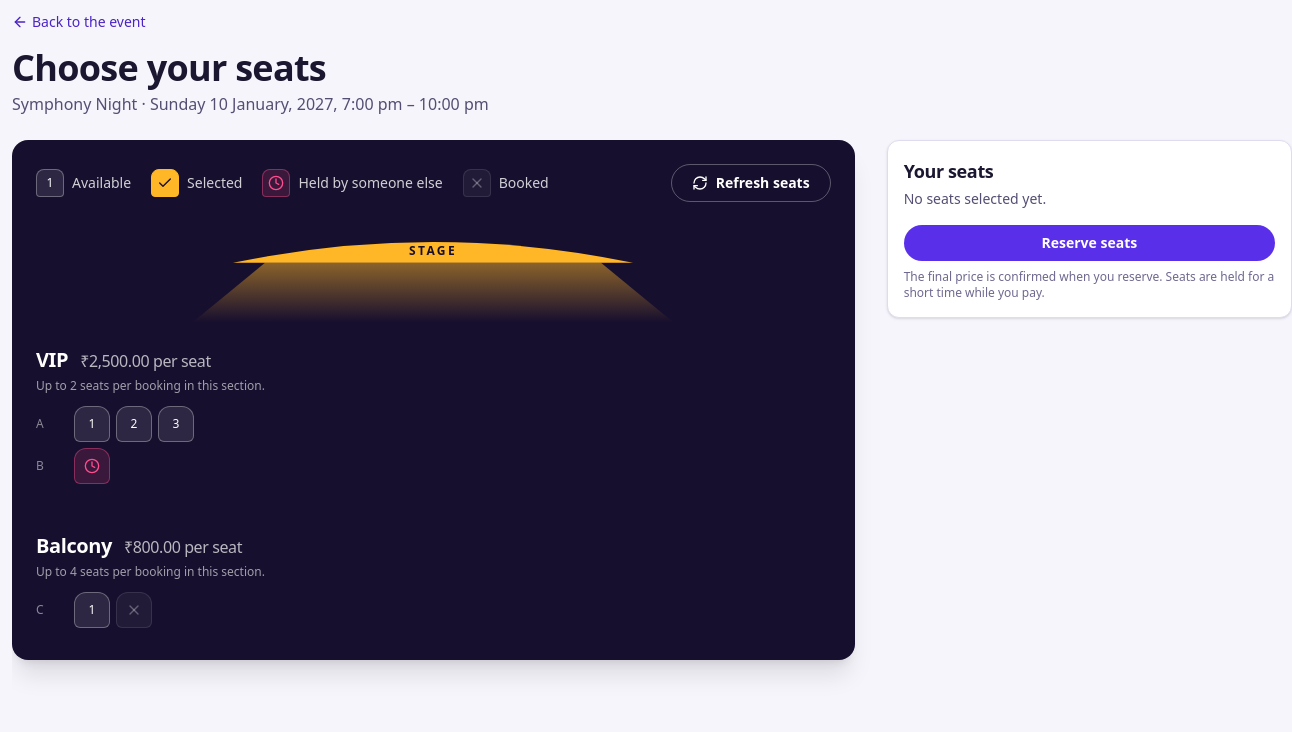
Test: SeatSelectionPage › keeps a running total and enforces the per-section limit
Click the button named "VIP, row A, seat 1," at (92, 424), box [74,406,110,442]
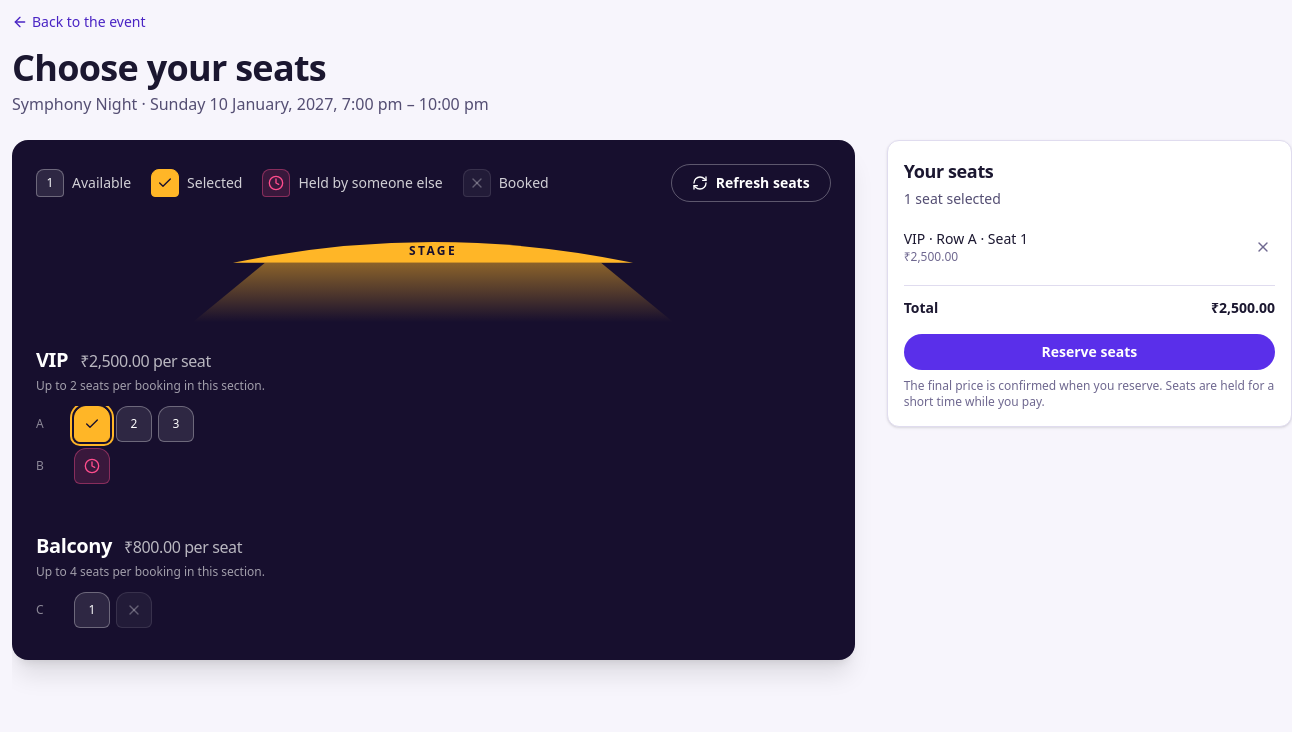
Click the button named "VIP, row A, seat 2," at (134, 424), box [116,406,152,442]
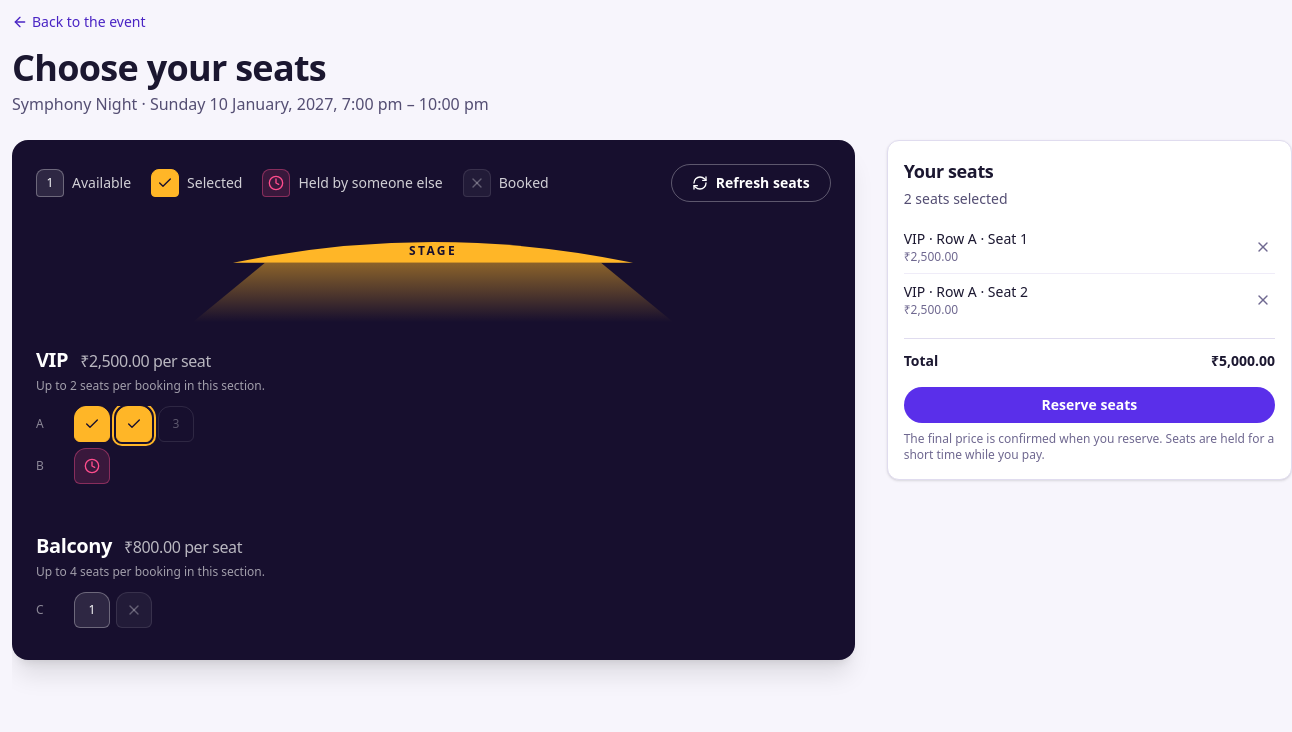
expect the text "2 seats selected" is shown: met, box [904,189,1008,208]
expect the text "₹5,000.00" is shown: met, box [1211,351,1275,371]
